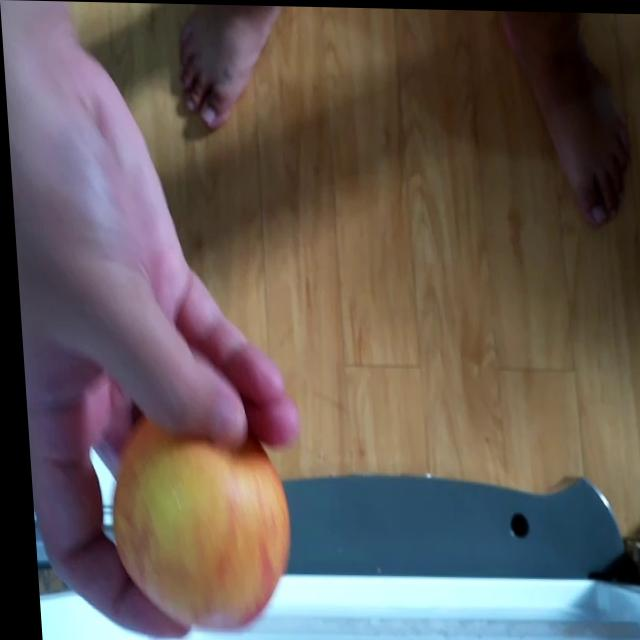apple: (92, 415, 287, 638)
